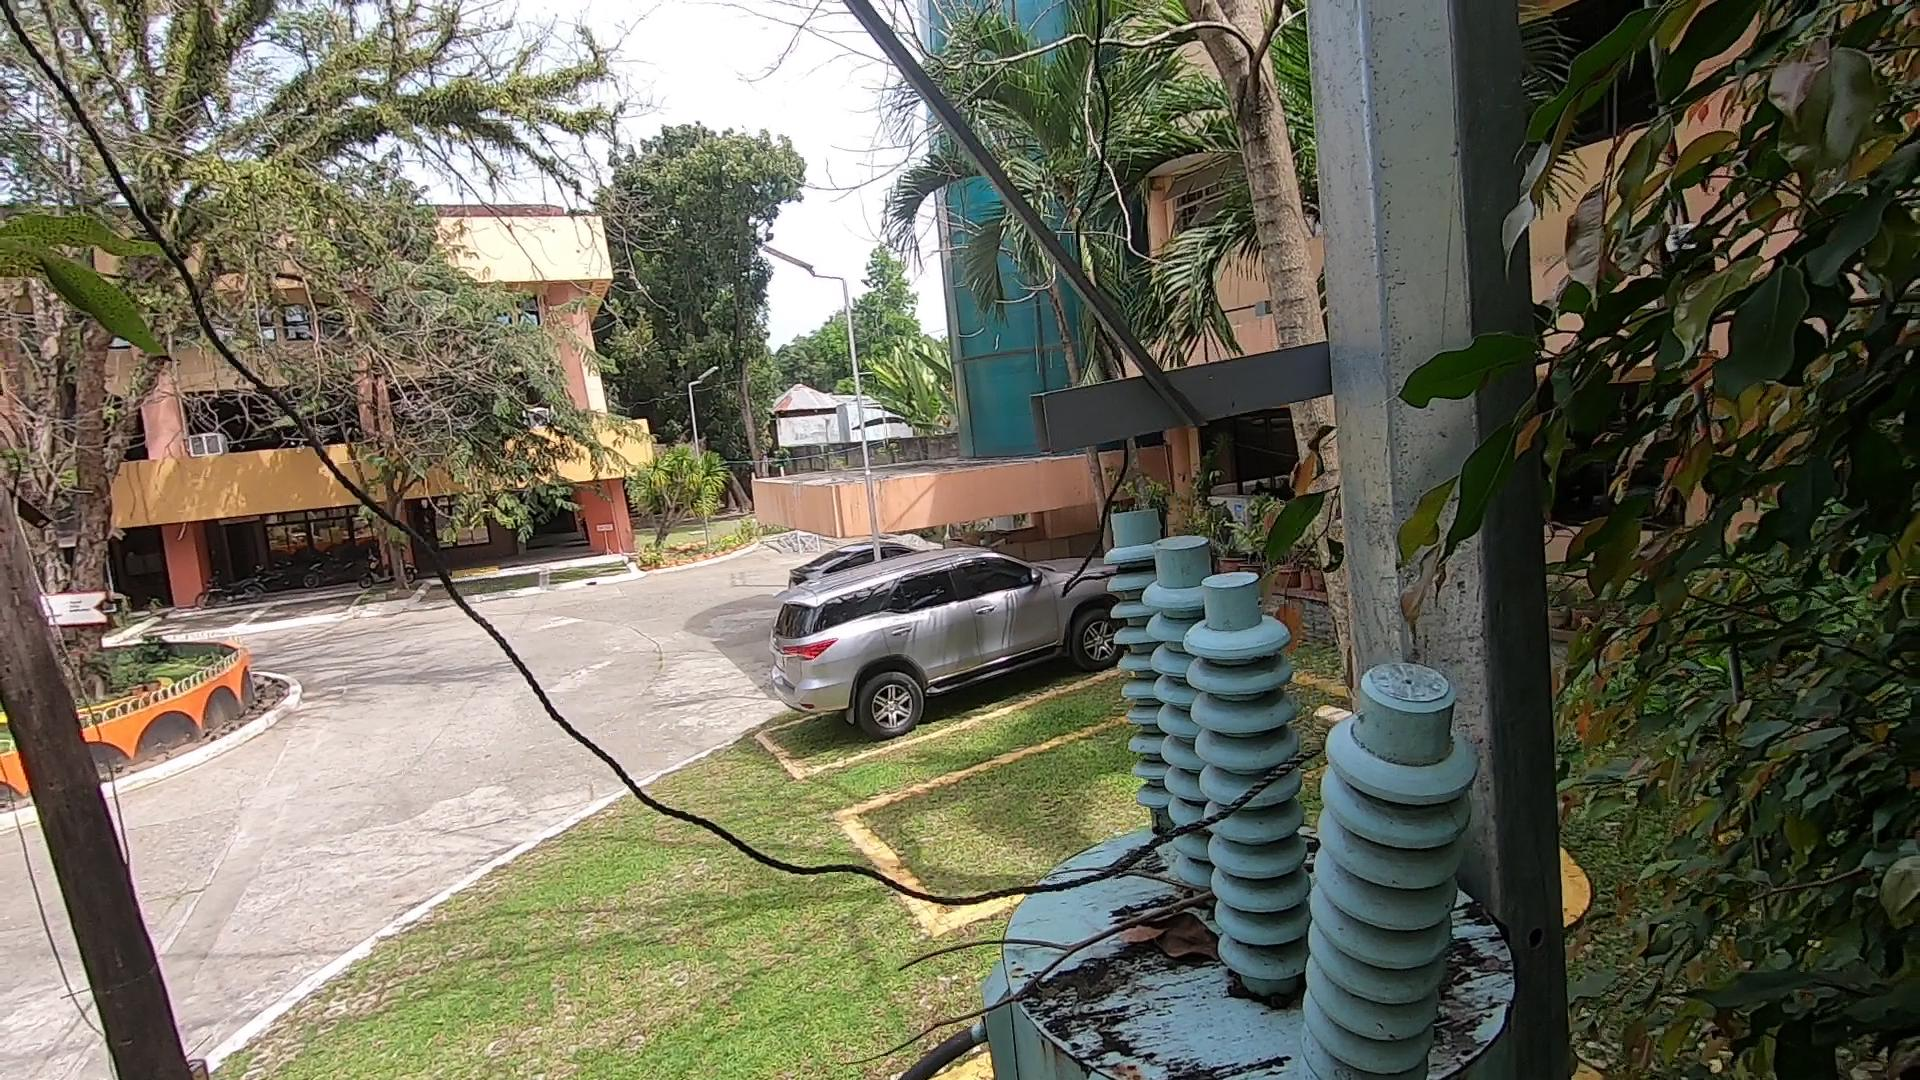leaf: (1104, 902, 1236, 977)
tree branch: (866, 885, 1240, 1059)
